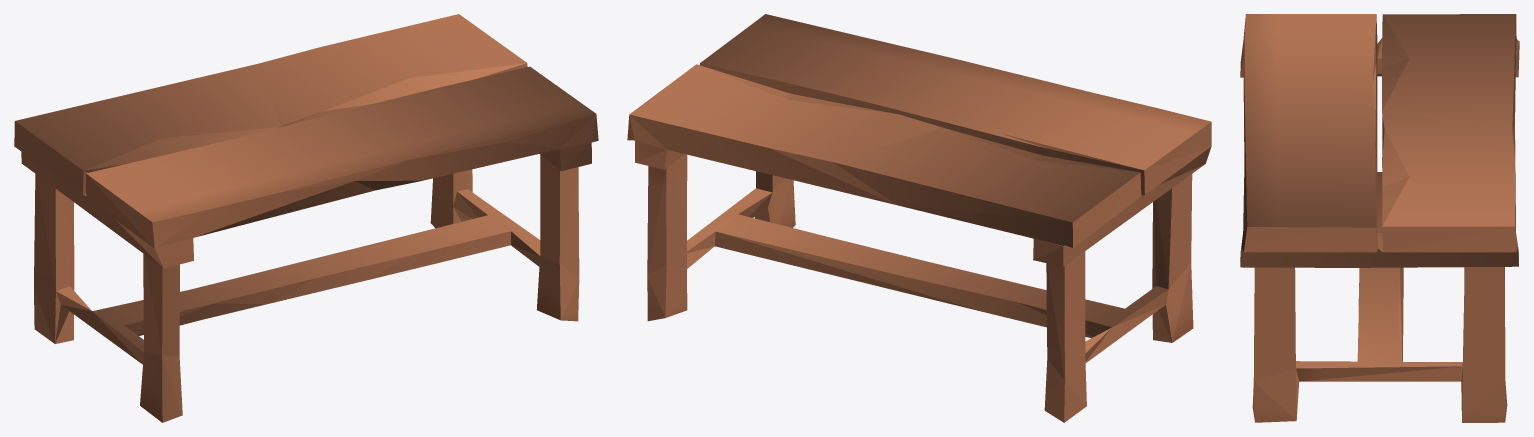
File: Bench.fbx
The picture shows the model from 3 angles, left to right: view 1: azimuth 30°, elevation 25°; view 2: azimuth 150°, elevation 25°; view 3: azimuth 270°, elevation 25°; orthographic projection. The views are drawn at different scales.
Visible parts, largest first — view 1: benchShabby__1_; view 2: benchShabby__1_; view 3: benchShabby__1_.
Part boxes in pixels (x1,y1,x2,y2): benchShabby__1_: (14,14,598,422); benchShabby__1_: (627,14,1211,422); benchShabby__1_: (1240,14,1519,422).
Bounding box in the file's own units: 236 × 105 × 131.
